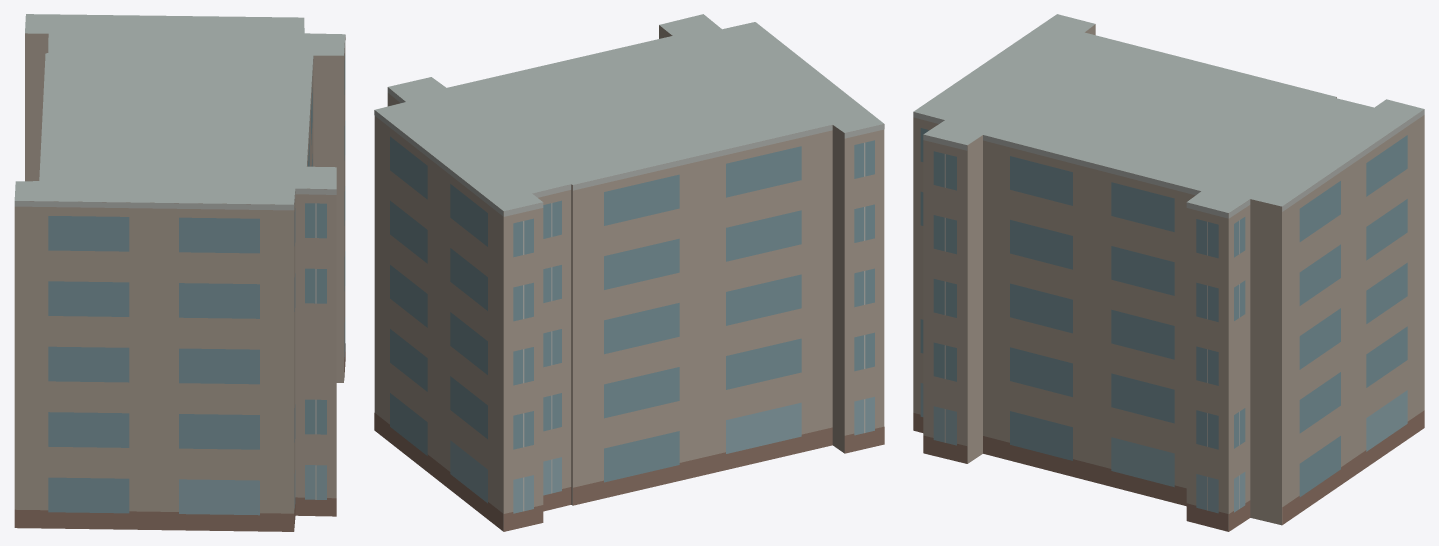
The model's file is survey-upis-32675859.glb.
3 views of the same model, side by side, from view 1: azimuth 30°, elevation 25°; view 2: azimuth 150°, elevation 25°; view 3: azimuth 270°, elevation 25° (orthographic). The views are drawn at different scales.
Visible parts, largest first — view 1: survey-upis-32675859.tmp; view 2: survey-upis-32675859.tmp; view 3: survey-upis-32675859.tmp.
Boxes of the visible parts, x1,y1,x2,y2 form: survey-upis-32675859.tmp: (14, 14, 345, 531); survey-upis-32675859.tmp: (374, 14, 884, 531); survey-upis-32675859.tmp: (913, 14, 1424, 531).
Bounding box in the file's own units: 18.7 × 13.95 × 20.29.
